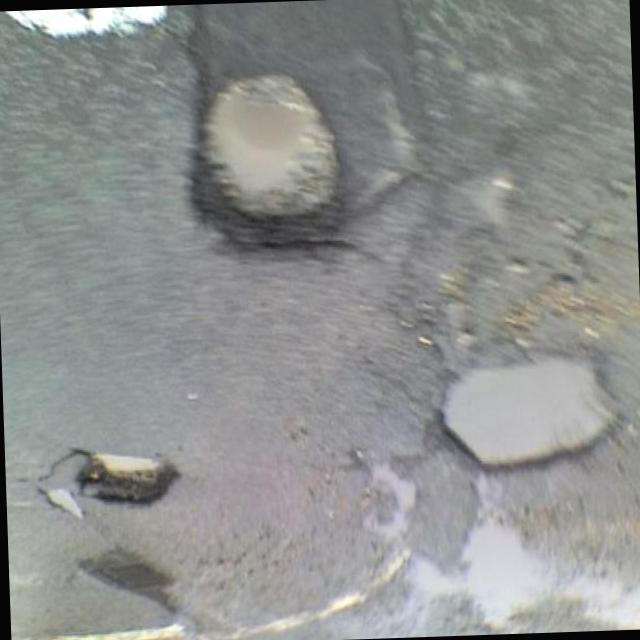pothole: (188, 69, 364, 270), (435, 356, 632, 480), (73, 444, 186, 517)
